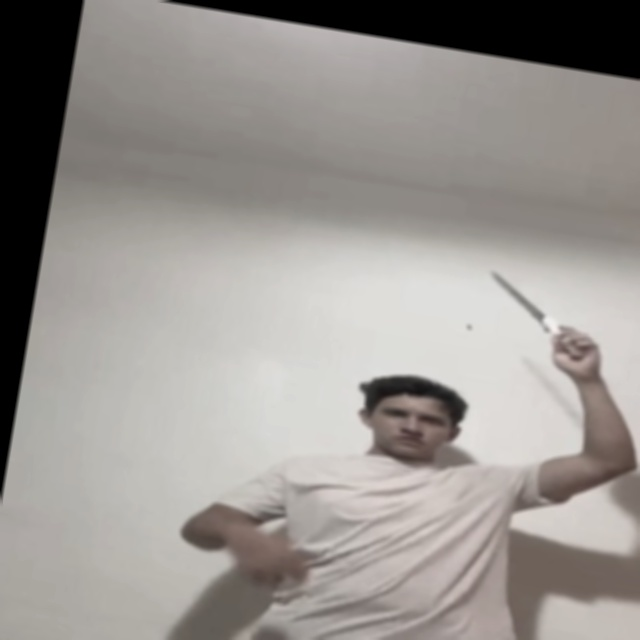Sharp-Object: (492, 273, 542, 316)
